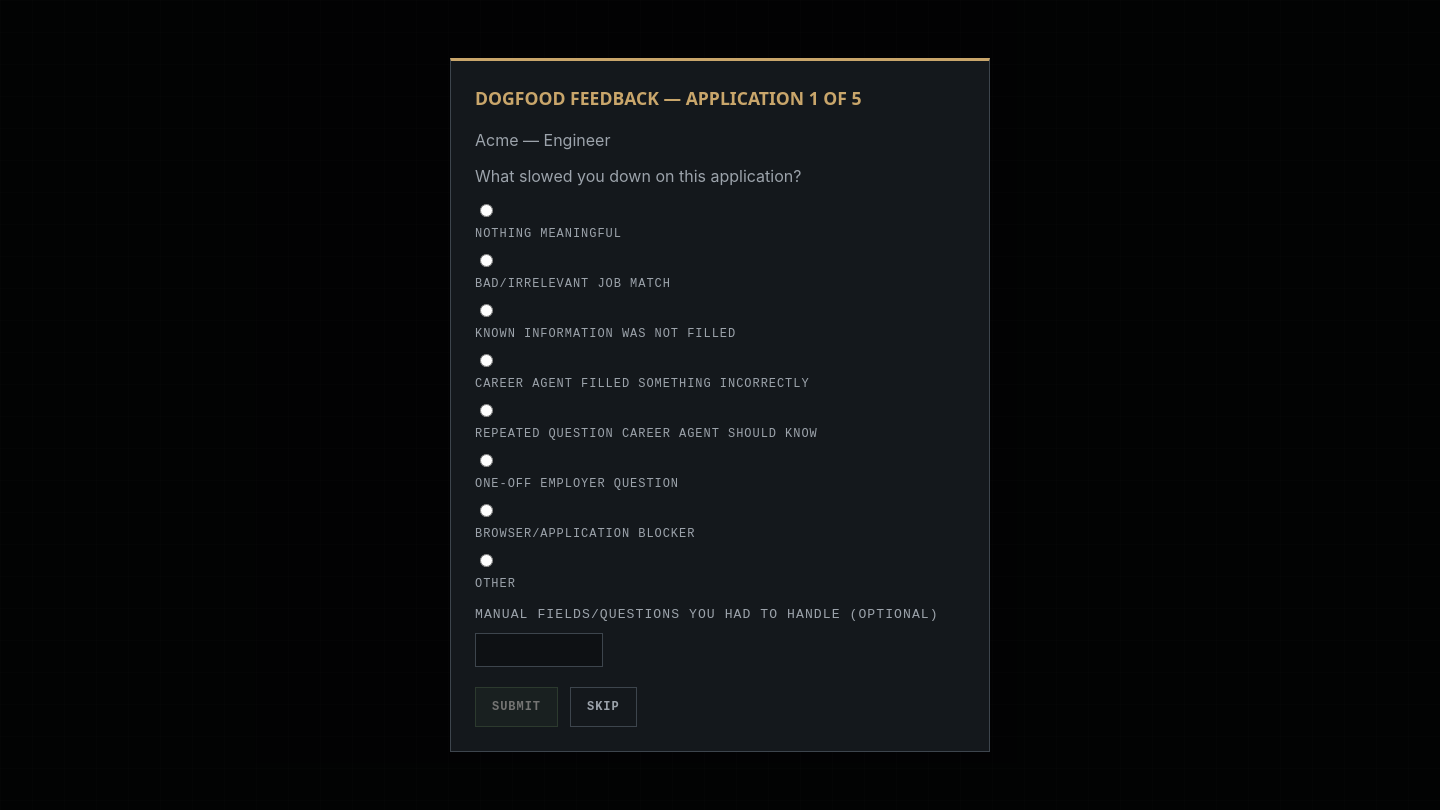
it: DogfoodFeedbackDialog › disables Submit until a category is chosen
This screenshot has width=1440, height=810.
Expected: the button "Submit" is disabled, [475,687,558,727]
Step 1. Click the radio button labelled "Nothing meaningful" → (486, 211), box [480,204,493,217]
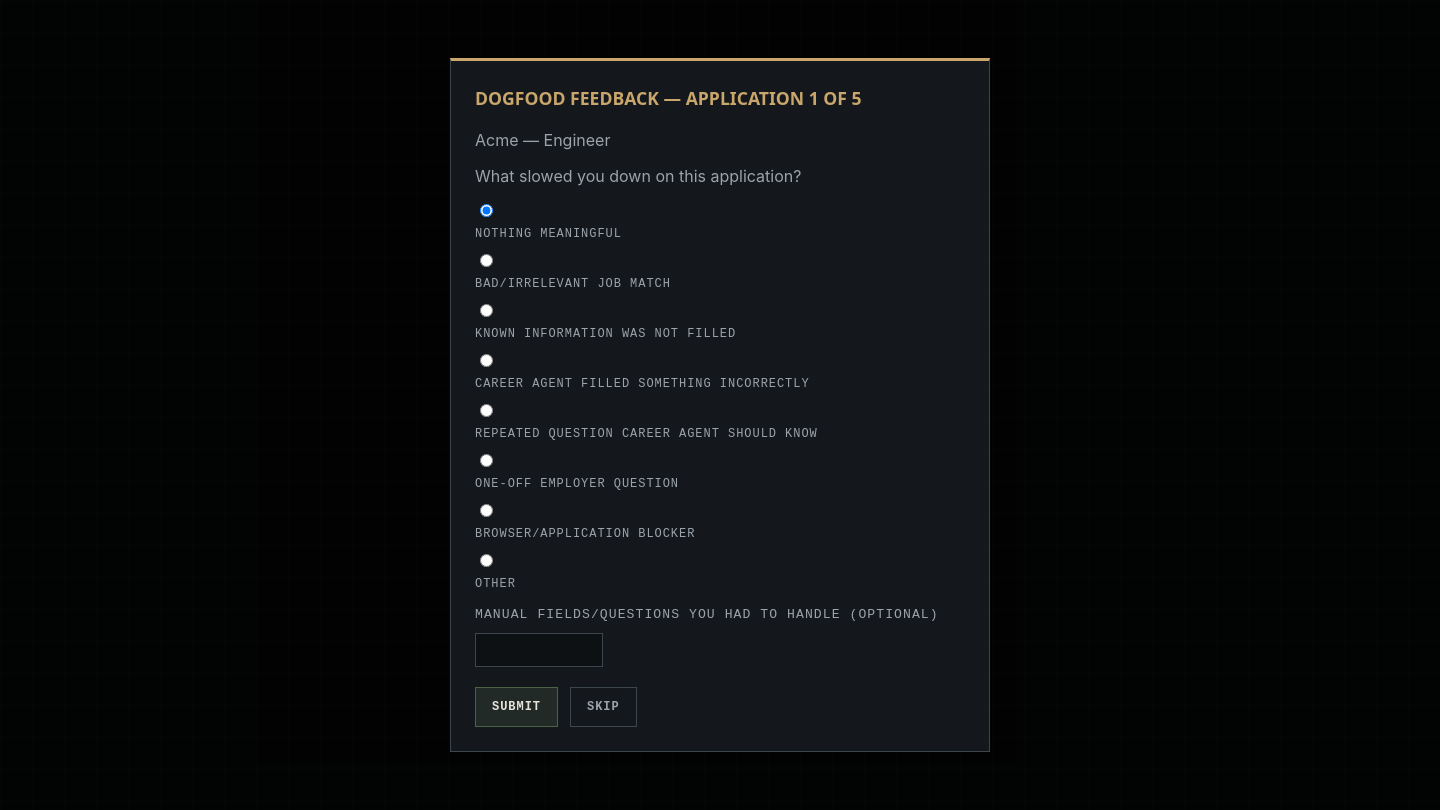
Now the button "Submit" is enabled, box [475,687,558,727]
